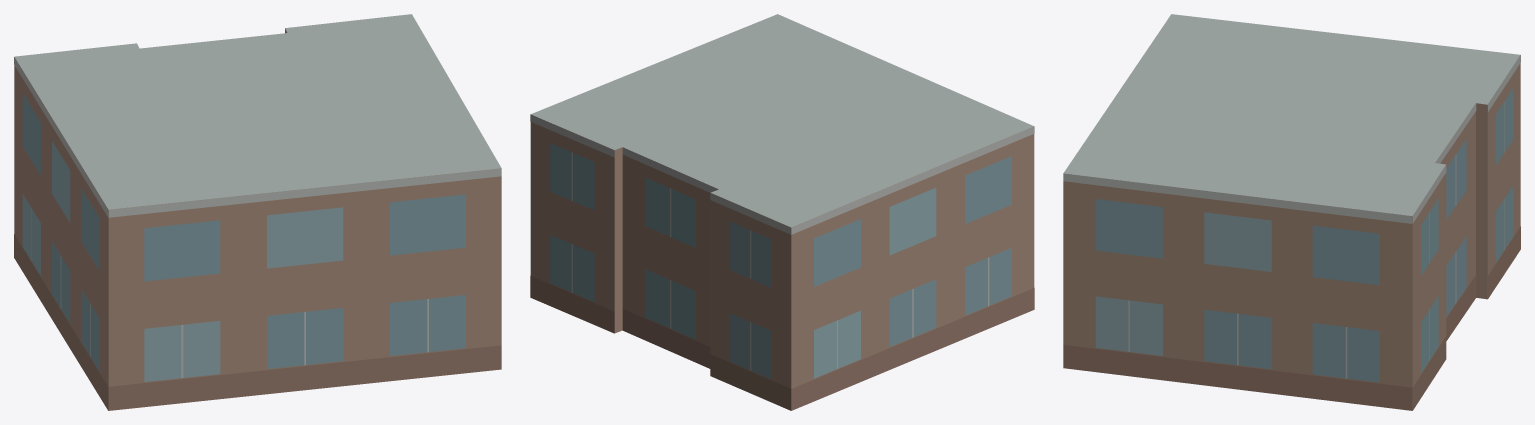
Rendered from survey-upis-32713048.glb.
3 renders of one model, left to right at view 1: azimuth 30°, elevation 25°; view 2: azimuth 150°, elevation 25°; view 3: azimuth 270°, elevation 25°, orthographic. The views are drawn at different scales.
Visible parts, largest first — view 1: survey-upis-32713048.tmp; view 2: survey-upis-32713048.tmp; view 3: survey-upis-32713048.tmp.
Part boxes in pixels (x1,y1,x2,y2): survey-upis-32713048.tmp: (14, 14, 501, 410); survey-upis-32713048.tmp: (530, 14, 1034, 410); survey-upis-32713048.tmp: (1063, 14, 1520, 410).
Bounding box in the file's own units: 13.6 × 6.1 × 13.
